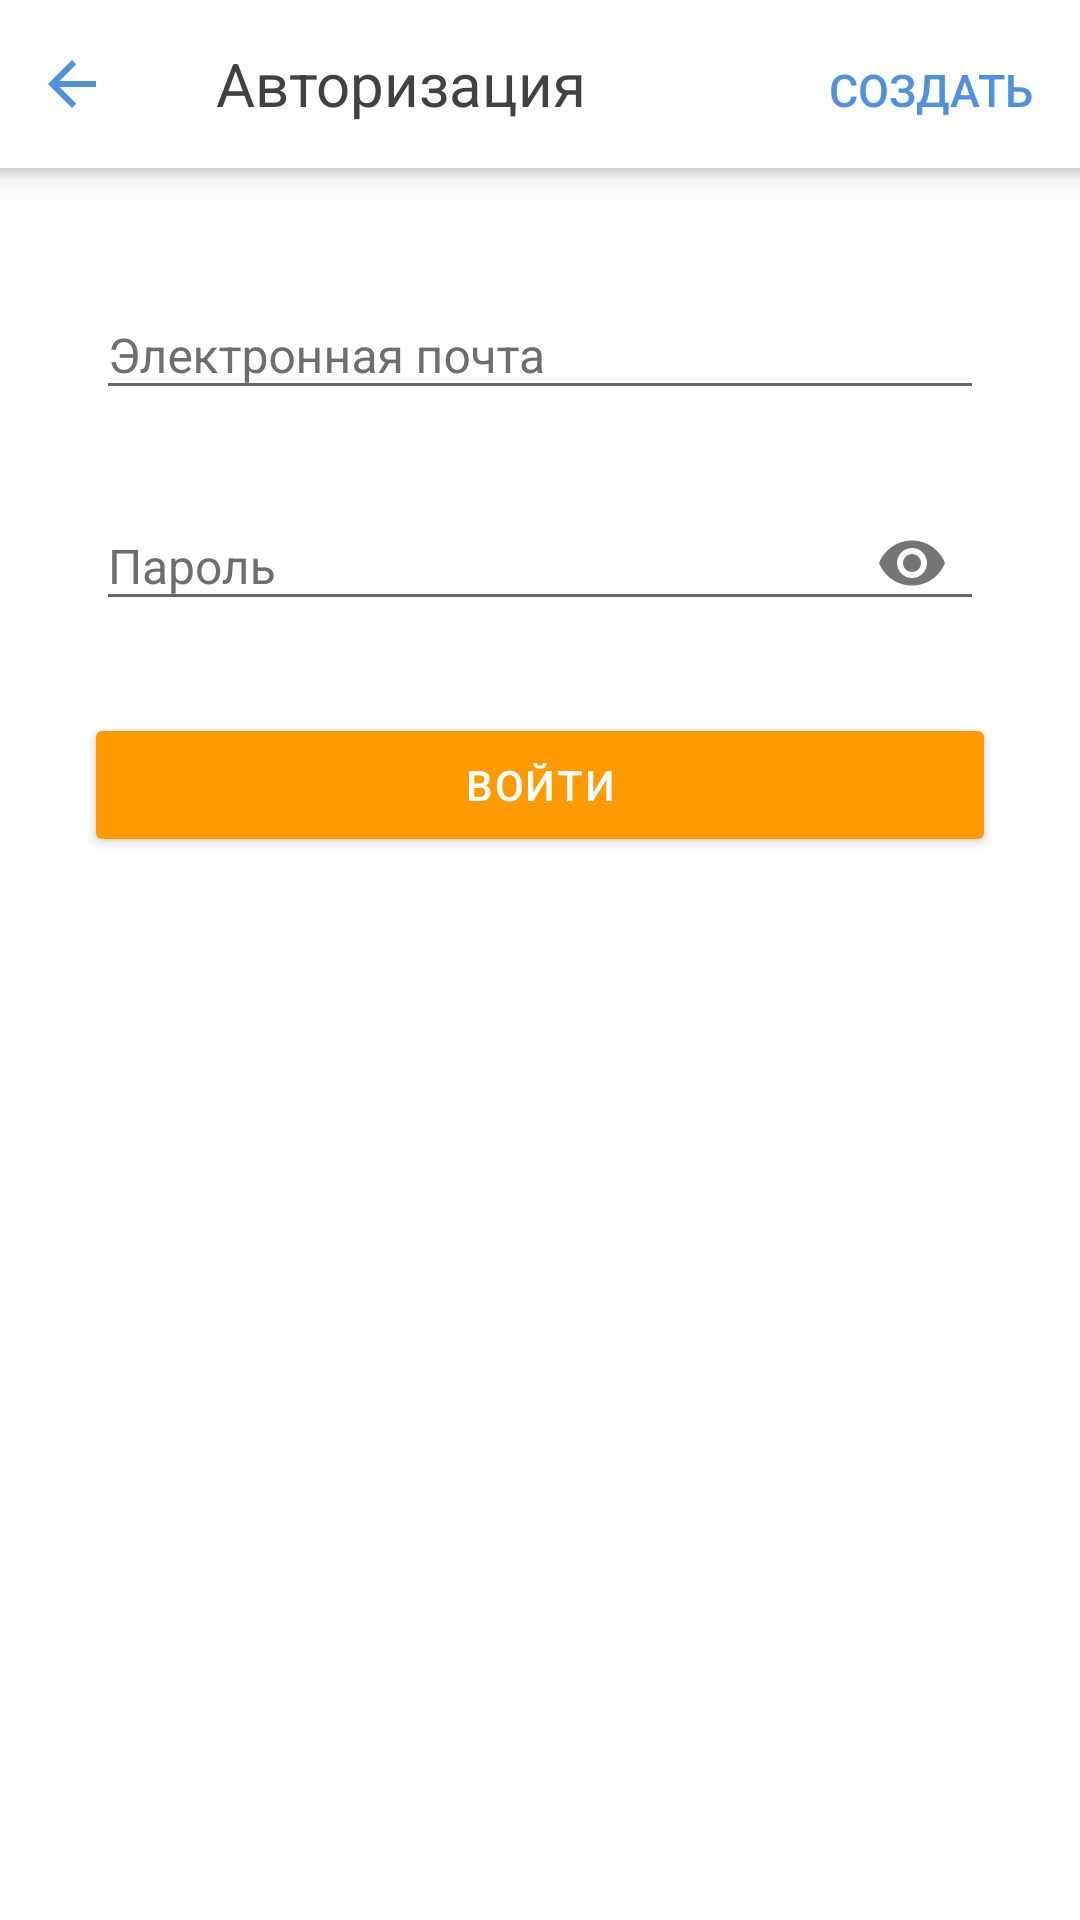

Screen size 1080px x 1920px. Icon name, then its box in pixels as box=[x1, y1, x2, y2]:
arrow back: box=[48, 60, 96, 108]
